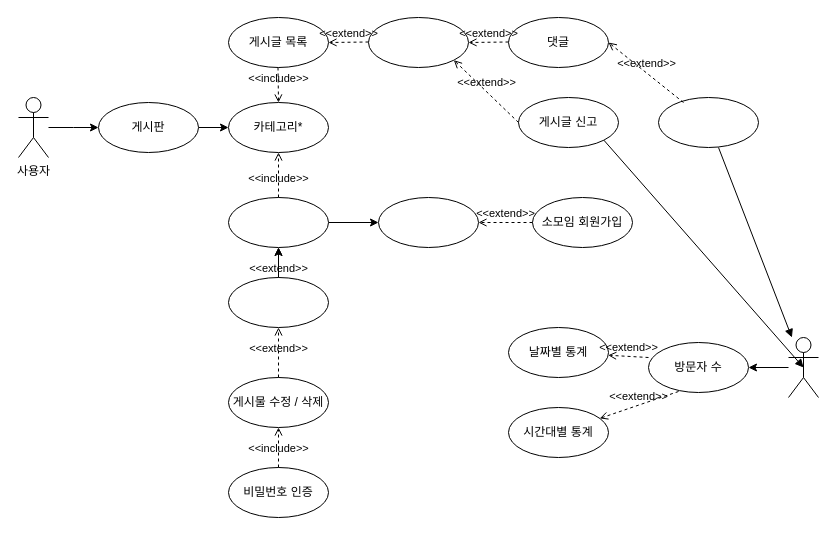
The diagram is 837 pixels wide and 535 high, and some of its shapes have lost their labels. Here are the shapes that lost their labels. From the top down, the centre of each, then its label:
(x=418, y=42): 게시물 상세조회
(x=708, y=122): 댓글 신고
(x=278, y=222): 게시글 등록
(x=428, y=222): 소모임
(x=278, y=302): 사진 등록
(x=803, y=367): 관리자
